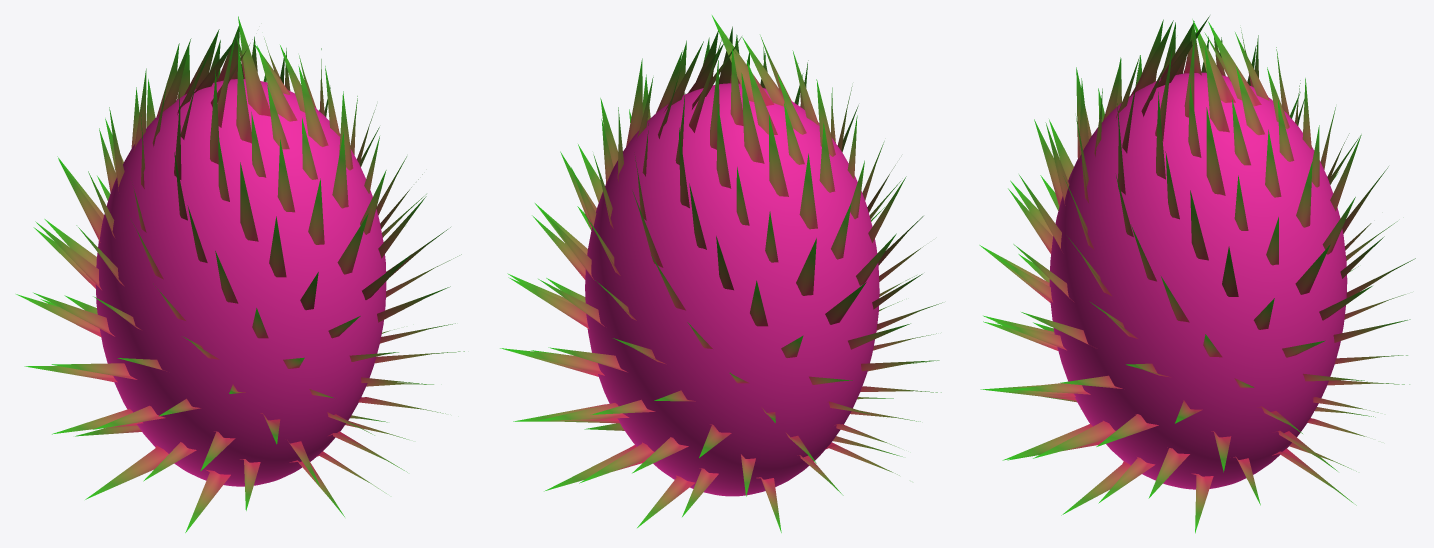
3 views of the same model, side by side, from view 1: azimuth 30°, elevation 25°; view 2: azimuth 150°, elevation 25°; view 3: azimuth 270°, elevation 25° (orthographic). The views are drawn at different scales.
Visible parts, largest first — view 1: DragonFruit_Body, Spike_Template.004, Spike_Template.138, Spike_Template.012, Spike_Template.022, Spike_Template.143, Spike_Template.009, Spike_Template.046, Spike_Template.043, Spike_Template.104, Spike_Template.038, Spike_Template.091 (+9 smaller); view 2: DragonFruit_Body, Spike_Template.002, Spike_Template.018, Spike_Template.031, Spike_Template.044, Spike_Template.131, Spike_Template.105, Spike_Template.092, Spike_Template.118, Spike_Template.144, Spike_Template.010, Spike_Template.026 (+8 smaller); view 3: DragonFruit_Body, Spike_Template.124, Spike_Template.032, Spike_Template.011, Spike_Template.008, Spike_Template.003, Spike_Template.145, Spike_Template.012, Spike_Template.129, Spike_Template.116, Spike_Template.016, Spike_Template.053 (+9 smaller).
Part boxes in pixels (box(x1,y1,x2,y2)): DragonFruit_Body: box(95, 79, 386, 486); Spike_Template.004: box(238, 16, 270, 116); Spike_Template.138: box(85, 445, 168, 499); Spike_Template.012: box(236, 48, 251, 143); Spike_Template.022: box(298, 66, 328, 146); Spike_Template.143: box(185, 470, 230, 532); Spike_Template.009: box(257, 45, 297, 121); Spike_Template.046: box(240, 162, 258, 241); Spike_Template.043: box(332, 132, 348, 208); Spike_Template.104: box(51, 363, 137, 379); Spike_Template.038: box(277, 139, 294, 212); Spike_Template.091: box(33, 292, 114, 336); DragonFruit_Body: box(585, 83, 879, 496); Spike_Template.002: box(712, 15, 774, 105); Spike_Template.018: box(741, 73, 764, 163); Spike_Template.031: box(769, 115, 788, 196); Spike_Template.044: box(799, 153, 817, 229); Spike_Template.131: box(579, 442, 654, 483); Spike_Template.105: box(510, 350, 604, 375); Spike_Template.092: box(508, 277, 589, 329); Spike_Template.118: box(538, 403, 629, 420); Spike_Template.144: box(637, 475, 695, 527); Spike_Template.010: box(746, 60, 777, 134); Spike_Template.026: box(716, 103, 731, 188); DragonFruit_Body: box(1049, 72, 1347, 489); Spike_Template.124: box(1033, 420, 1115, 458); Spike_Template.032: box(1206, 107, 1225, 195); Spike_Template.011: box(1205, 46, 1229, 132); Spike_Template.008: box(1208, 21, 1261, 106); Spike_Template.003: box(1192, 19, 1235, 102); Spike_Template.145: box(1061, 461, 1130, 515); Spike_Template.012: box(1129, 20, 1173, 97); Spike_Template.129: box(1148, 447, 1189, 498); Spike_Template.116: box(1096, 414, 1158, 446); Spike_Template.016: box(1236, 66, 1264, 135); Spike_Template.053: box(1190, 190, 1208, 260).
Bounding box in the file's own units: 2.45 × 2.72 × 2.31.
